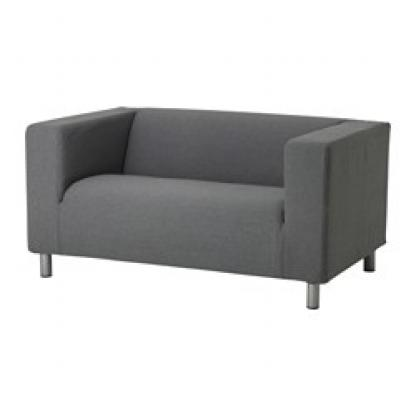Sofa: (17, 75, 398, 323)
